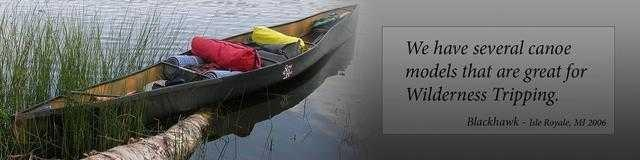kayak: (12, 4, 356, 126)
